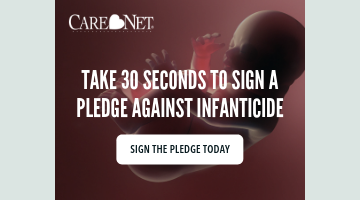fake_button: (109, 131, 250, 174)
